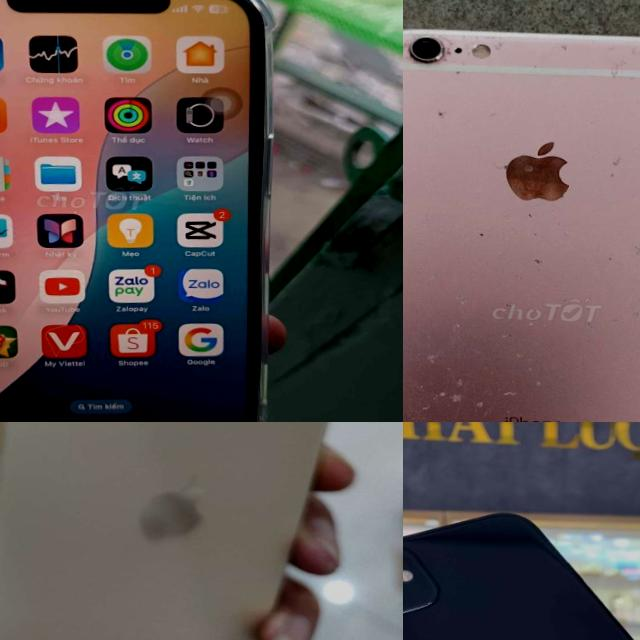scratch: (403, 325, 621, 422), (403, 23, 640, 84), (484, 133, 576, 209), (466, 220, 558, 274), (606, 130, 634, 192), (421, 97, 454, 135)
